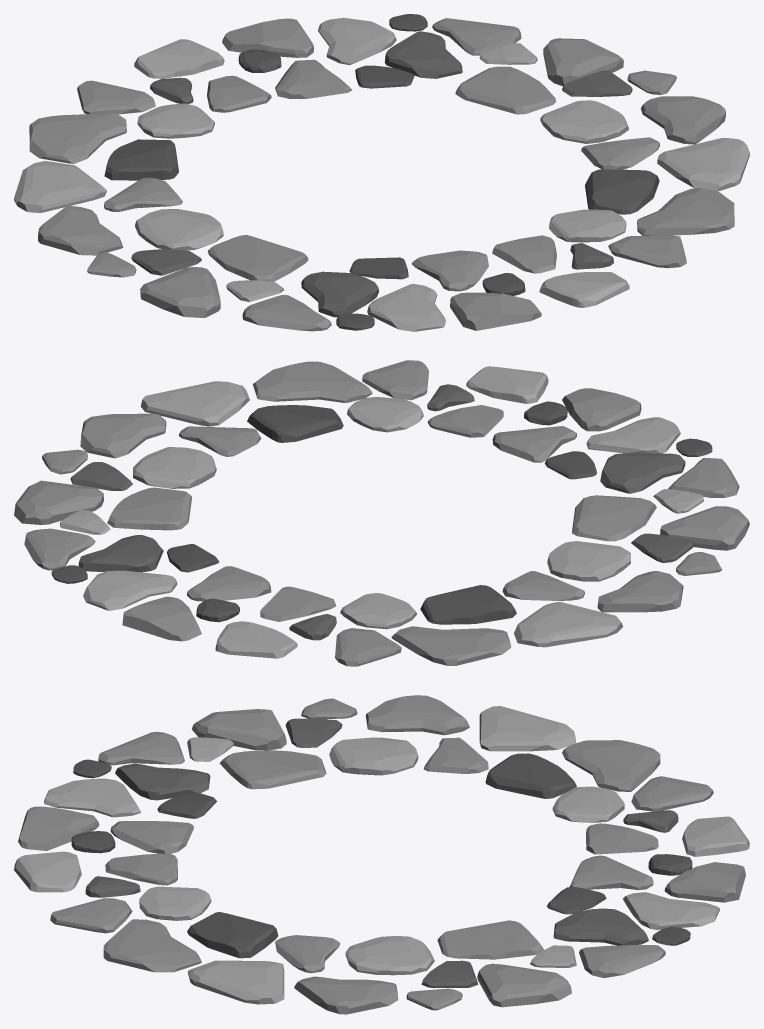
File: CobbleStoneCircle01.fbx
The picture shows the model from 3 angles, top to bottom: view 1: azimuth 30°, elevation 25°; view 2: azimuth 150°, elevation 25°; view 3: azimuth 270°, elevation 25°; orthographic projection. The views are drawn at different scales.
Parts seen in each view (by area): view 1: LOD0; view 2: LOD0; view 3: LOD0.
Boxes of the visible parts, x1=… form: LOD0: x1=14, y1=14, x2=749, y2=331; LOD0: x1=14, y1=360, x2=749, y2=666; LOD0: x1=14, y1=695, x2=749, y2=1014.
Size of what is drawn, in the model's own units: 1119 by 1113 by 21.76.
